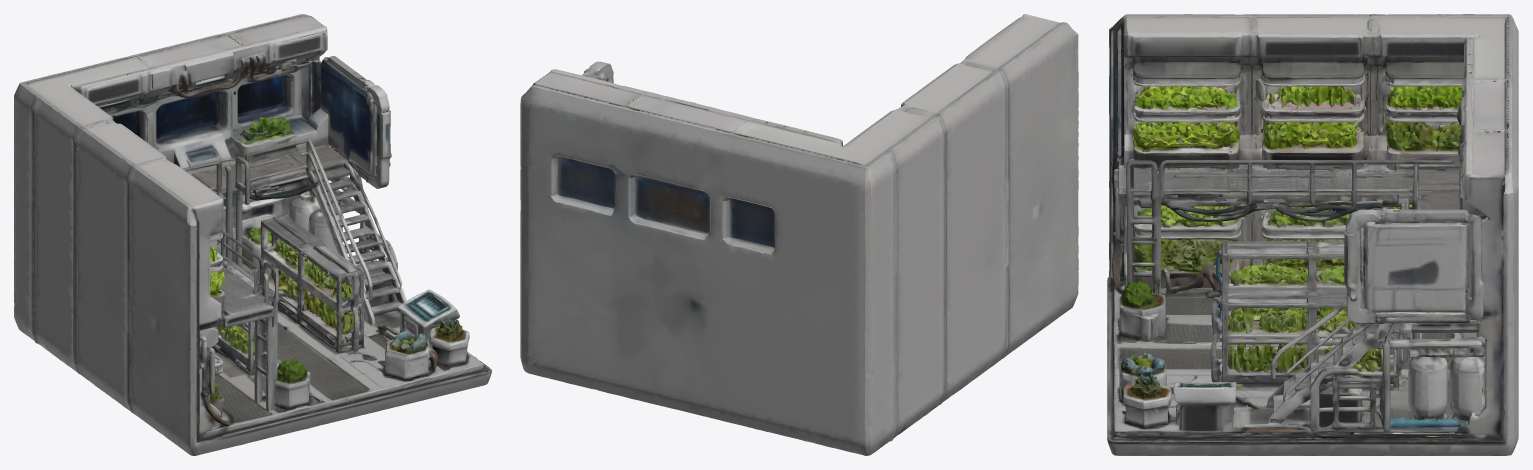
Rendered from place_greenhouse.glb.
The picture shows the model from 3 angles, left to right: view 1: azimuth 30°, elevation 25°; view 2: azimuth 150°, elevation 25°; view 3: azimuth 270°, elevation 25°; orthographic projection. The views are drawn at different scales.
Parts seen in each view (by area): view 1: world; view 2: world; view 3: world.
Boxes of the visible parts, box(x1,y1,x2,y2) form: world: box(14, 14, 491, 455); world: box(520, 14, 1078, 455); world: box(1107, 14, 1518, 455).
Size of the model in its own units: 4 by 3.06 by 4.07.
Materials: 1 (1 with a texture image).
